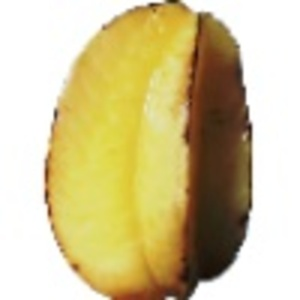carambola: (42, 1, 255, 300)
